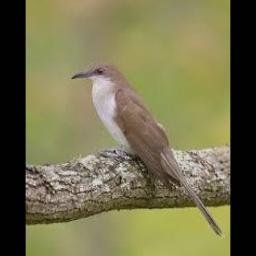Cuckoo: (71, 61, 225, 238)
